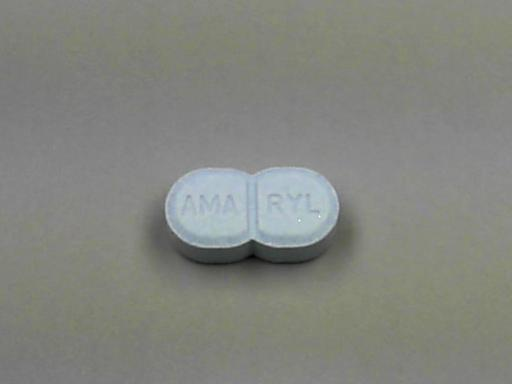Pill: (153, 156, 355, 272)
